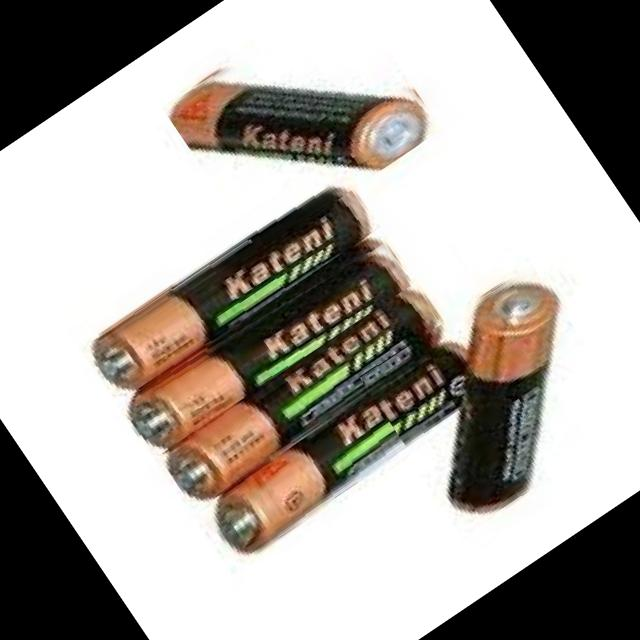Hazard: (359, 257, 640, 535), (161, 0, 445, 251), (116, 226, 416, 459), (198, 335, 494, 566), (80, 172, 376, 403), (158, 281, 452, 511)
